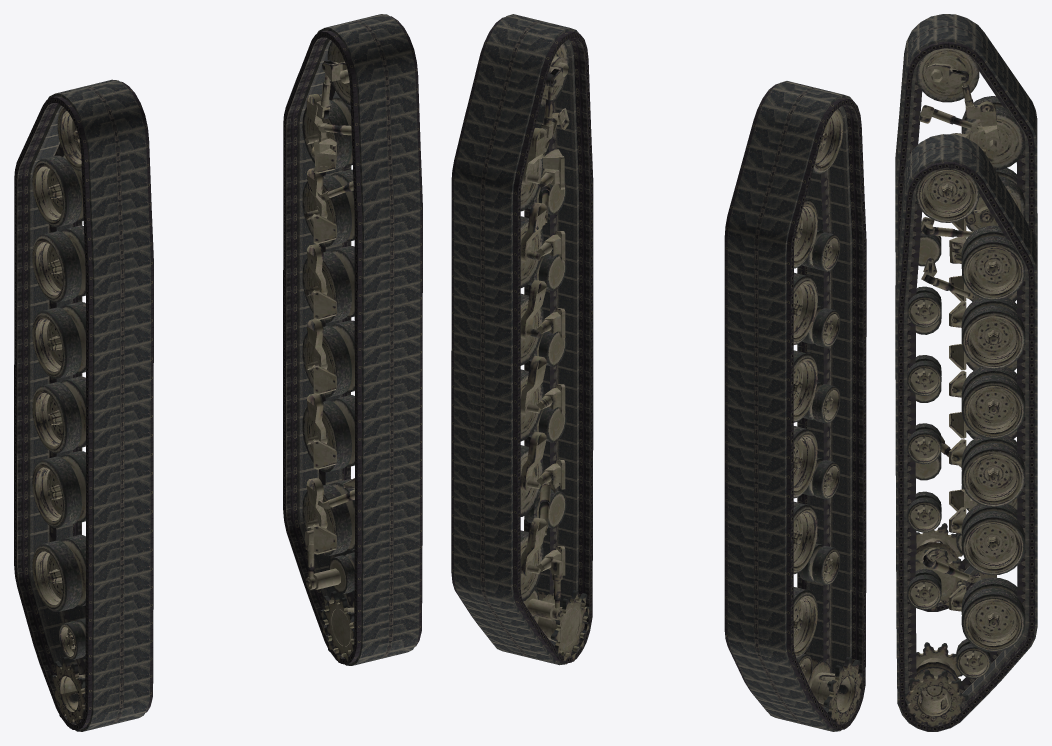
File: Chassis.glb
3 renders of one model, left to right at view 1: azimuth 30°, elevation 25°; view 2: azimuth 150°, elevation 25°; view 3: azimuth 270°, elevation 25°, orthographic. The views are drawn at different scales.
Parts seen in each view (by area): view 1: set_0_group_0, set_1_group_0, set_3_group_0, set_2_group_0; view 2: set_0_group_0, set_1_group_0, set_3_group_0, set_2_group_0; view 3: set_3_group_0, set_1_group_0, set_2_group_0, set_0_group_0.
Part boxes in pixels (bbox=[...]): set_0_group_0: bbox=[14, 79, 153, 731]; set_1_group_0: bbox=[283, 14, 422, 665]; set_3_group_0: bbox=[302, 41, 356, 663]; set_2_group_0: bbox=[32, 106, 85, 729]; set_0_group_0: bbox=[724, 81, 866, 731]; set_1_group_0: bbox=[451, 14, 593, 665]; set_3_group_0: bbox=[520, 42, 591, 664]; set_2_group_0: bbox=[793, 108, 862, 730]; set_3_group_0: bbox=[904, 168, 1025, 731]; set_1_group_0: bbox=[895, 134, 1037, 731]; set_2_group_0: bbox=[915, 48, 1025, 611]; set_0_group_0: bbox=[895, 14, 1037, 611].
Size of the model in its own units: 3.64 by 6.52 by 1.47.
4 materials, 4 textured.
